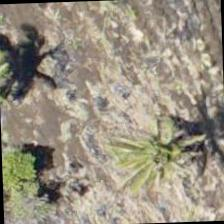Kelapa_Sawit: (106, 106, 199, 199)
